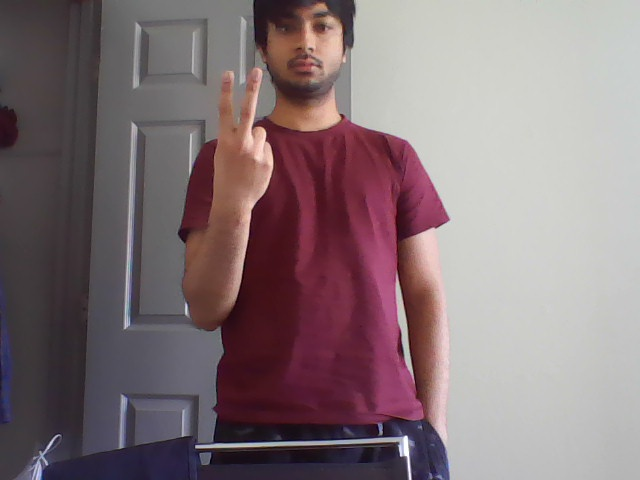two: (209, 62, 265, 148)
